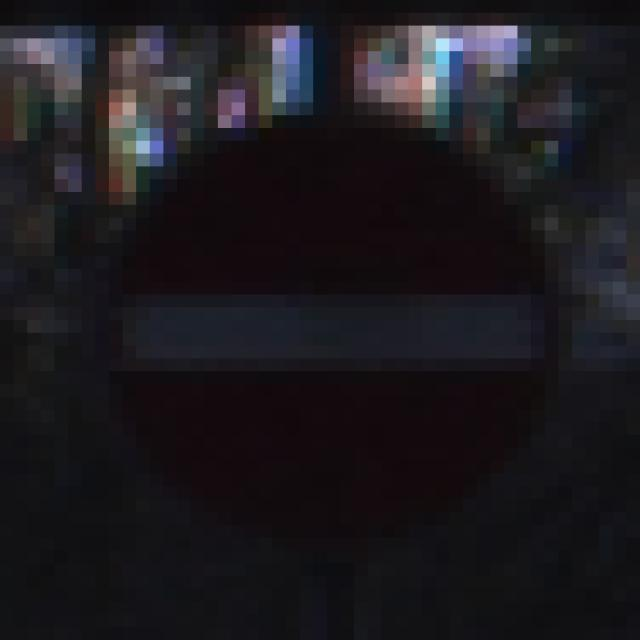No Entry: (83, 78, 573, 577)
